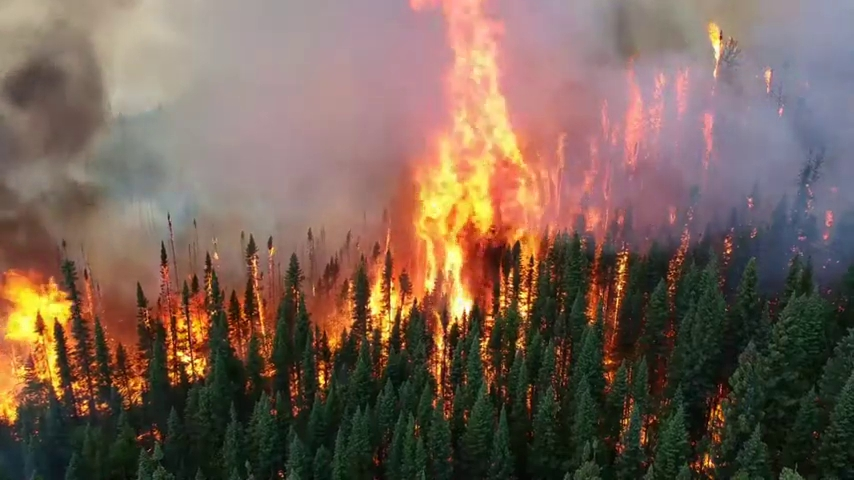forest_fire: (357, 0, 565, 373), (0, 270, 74, 419), (138, 267, 215, 379), (601, 60, 665, 172), (302, 270, 355, 351), (743, 72, 781, 119), (708, 22, 731, 77), (582, 280, 601, 320), (757, 66, 770, 71), (2, 437, 6, 440), (851, 269, 853, 270), (735, 126, 736, 128)
